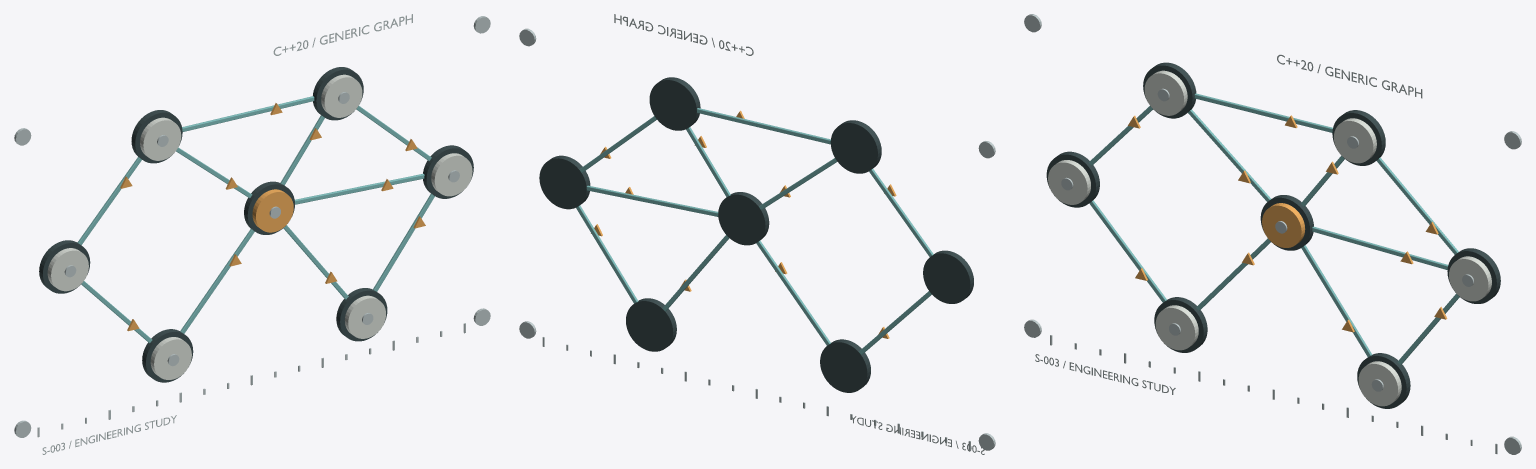
The model's file is generic-graph.glb.
3 views of the same model, side by side, from view 1: azimuth 30°, elevation 25°; view 2: azimuth 150°, elevation 25°; view 3: azimuth 330°, elevation 25° (orthographic). The views are drawn at different scales.
Parts seen in each view (by area): view 1: optical-core__Project_Ceramic.012, optical-core__Project_Graphite.012, optical-lenses__Project_Trace.011, optical-lenses__Project_Silver.014, optical-core__Project_Amber.013, optical-core__Project_Silver.009; view 2: optical-core__Project_Graphite.012, optical-lenses__Project_Trace.011, optical-lenses__Project_Silver.014, optical-core__Project_Amber.013; view 3: optical-core__Project_Ceramic.012, optical-core__Project_Graphite.012, optical-lenses__Project_Trace.011, optical-lenses__Project_Silver.014, optical-core__Project_Amber.013, optical-core__Project_Silver.009.
Boxes of the visible parts, bbox=[...] form: optical-core__Project_Ceramic.012: bbox=[47, 74, 472, 379]; optical-core__Project_Graphite.012: bbox=[39, 67, 473, 382]; optical-lenses__Project_Trace.011: bbox=[77, 96, 434, 343]; optical-lenses__Project_Silver.014: bbox=[14, 14, 490, 454]; optical-core__Project_Amber.013: bbox=[120, 103, 425, 331]; optical-core__Project_Silver.009: bbox=[64, 92, 459, 366]; optical-core__Project_Graphite.012: bbox=[539, 77, 973, 392]; optical-lenses__Project_Trace.011: bbox=[576, 108, 933, 354]; optical-lenses__Project_Silver.014: bbox=[519, 14, 995, 454]; optical-core__Project_Amber.013: bbox=[591, 110, 896, 338]; optical-core__Project_Ceramic.012: bbox=[1048, 70, 1491, 406]; optical-core__Project_Graphite.012: bbox=[1046, 62, 1500, 408]; optical-lenses__Project_Trace.011: bbox=[1089, 93, 1459, 365]; optical-lenses__Project_Silver.014: bbox=[1024, 14, 1521, 454]; optical-core__Project_Amber.013: bbox=[1128, 115, 1447, 332]; optical-core__Project_Silver.009: bbox=[1061, 88, 1473, 391].
Bounding box in the file's own units: 4.01 × 2.83 × 0.1417.
